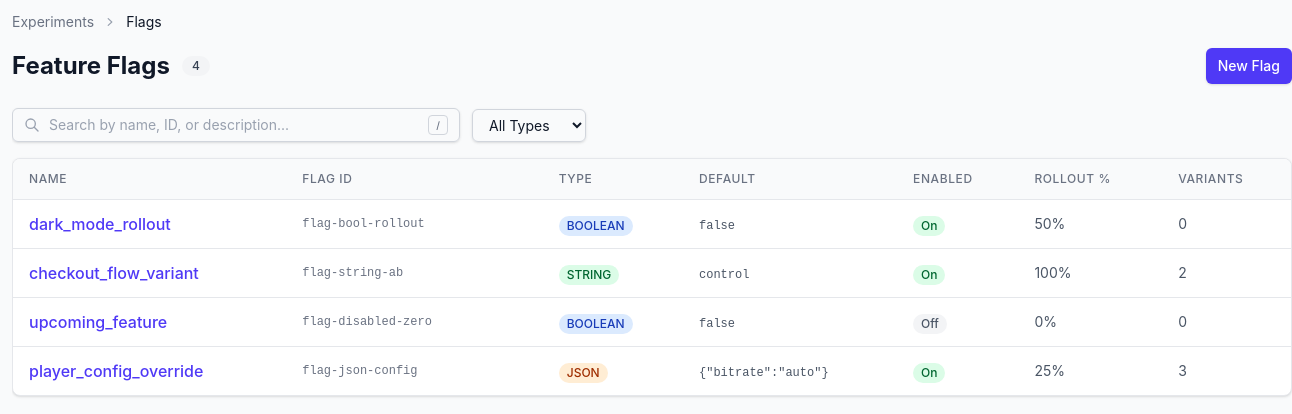
Test: Flag List Page › searches flags by description
Expected: the link "dark_mode_rollout" is shown, [29,214,171,234]
In the field with test id "flag-search": (236, 125) [12,108,460,142], type "checkout"
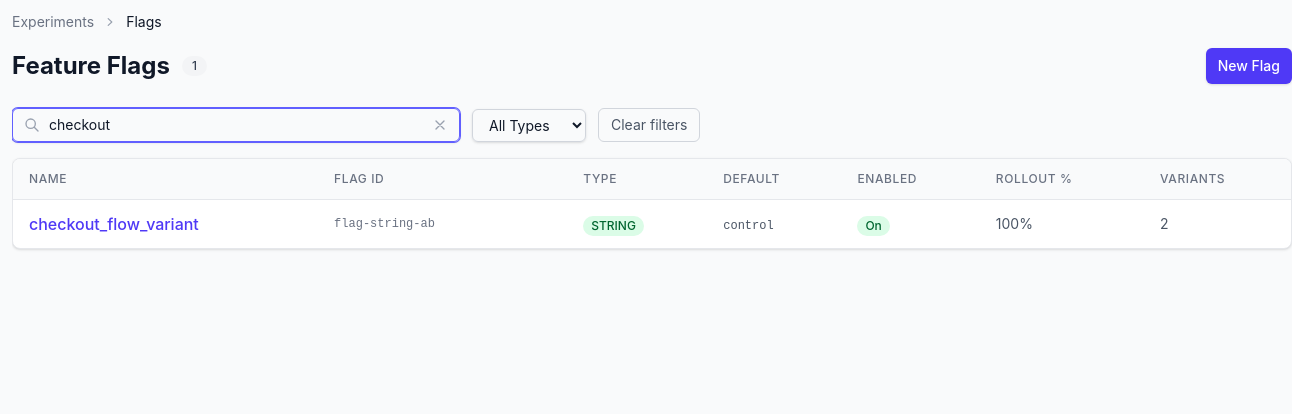
Expected: the link "checkout_flow_variant" is shown, [29,214,199,234]
Expected: the link "dark_mode_rollout" is gone
